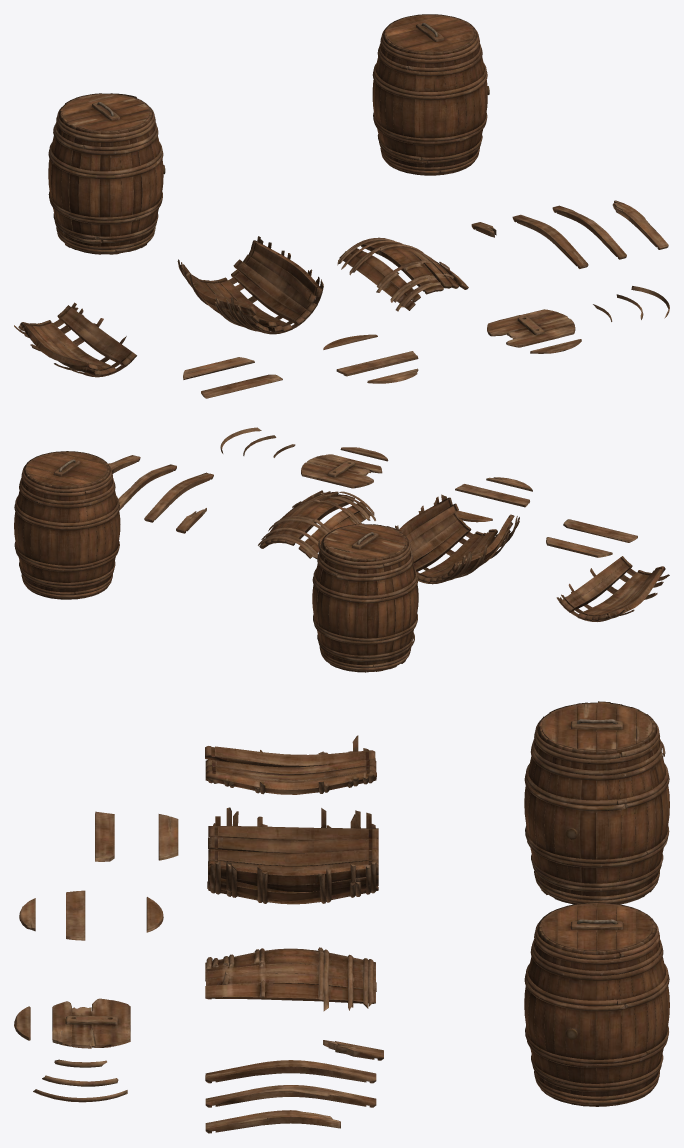
Rendered from barrels.glb.
3 views of the same model, one above another, from view 1: azimuth 30°, elevation 25°; view 2: azimuth 150°, elevation 25°; view 3: azimuth 270°, elevation 25° (orthographic). The views are drawn at different scales.
Visible parts, largest first — view 1: wooden_barrels_01_barrel02, wooden_barrels_01_barrel01, wooden_barrels_01_piece01, wooden_barrels_01_piece03, wooden_barrels_01_piece02, wooden_barrels_01_piece08, wooden_barrels_01_piece04, wooden_barrels_01_piece05, wooden_barrels_01_piece06, wooden_barrels_01_piece11, wooden_barrels_01_piece14, wooden_barrels_01_piece13; view 2: wooden_barrels_01_barrel02, wooden_barrels_01_barrel01, wooden_barrels_01_piece01, wooden_barrels_01_piece03, wooden_barrels_01_piece02, wooden_barrels_01_piece08, wooden_barrels_01_piece04, wooden_barrels_01_piece14, wooden_barrels_01_piece11, wooden_barrels_01_piece05, wooden_barrels_01_piece13; view 3: wooden_barrels_01_barrel01, wooden_barrels_01_barrel02, wooden_barrels_01_piece01, wooden_barrels_01_piece03, wooden_barrels_01_piece02, wooden_barrels_01_piece08, wooden_barrels_01_piece04, wooden_barrels_01_piece05, wooden_barrels_01_piece06, wooden_barrels_01_piece11, wooden_barrels_01_piece14, wooden_barrels_01_piece13 (+1 smaller).
Part boxes in pixels (box(x1,y1,x2,y2)): wooden_barrels_01_barrel02: box(48, 93, 165, 254); wooden_barrels_01_barrel01: box(372, 14, 489, 175); wooden_barrels_01_piece01: box(177, 236, 323, 334); wooden_barrels_01_piece03: box(337, 237, 468, 311); wooden_barrels_01_piece02: box(14, 302, 136, 377); wooden_barrels_01_piece08: box(487, 309, 575, 347); wooden_barrels_01_piece04: box(512, 214, 588, 268); wooden_barrels_01_piece05: box(552, 205, 626, 259); wooden_barrels_01_piece06: box(612, 200, 668, 249); wooden_barrels_01_piece11: box(336, 351, 418, 376); wooden_barrels_01_piece14: box(201, 374, 282, 398); wooden_barrels_01_piece13: box(183, 357, 254, 379); wooden_barrels_01_barrel02: box(312, 523, 418, 672); wooden_barrels_01_barrel01: box(14, 451, 120, 599); wooden_barrels_01_piece01: box(395, 494, 519, 584); wooden_barrels_01_piece03: box(258, 490, 375, 558); wooden_barrels_01_piece02: box(556, 556, 669, 621); wooden_barrels_01_piece08: box(301, 454, 382, 488); wooden_barrels_01_piece04: box(144, 472, 213, 522); wooden_barrels_01_piece14: box(563, 519, 637, 542); wooden_barrels_01_piece11: box(455, 484, 529, 507); wooden_barrels_01_piece05: box(118, 464, 176, 510); wooden_barrels_01_piece13: box(546, 537, 612, 557); wooden_barrels_01_barrel01: box(524, 902, 669, 1106); wooden_barrels_01_barrel02: box(524, 701, 669, 904); wooden_barrels_01_piece01: box(207, 807, 378, 904); wooden_barrels_01_piece03: box(205, 947, 376, 1011); wooden_barrels_01_piece02: box(205, 735, 376, 794); wooden_barrels_01_piece08: box(52, 998, 130, 1048); wooden_barrels_01_piece04: box(205, 1060, 376, 1083); wooden_barrels_01_piece05: box(205, 1085, 376, 1107); wooden_barrels_01_piece06: box(205, 1110, 340, 1133); wooden_barrels_01_piece11: box(66, 890, 85, 940); wooden_barrels_01_piece14: box(95, 811, 114, 861); wooden_barrels_01_piece13: box(158, 814, 178, 860).
Size of the model in its own units: 4.44 by 0.9567 by 3.34.
3 materials, 3 textured.
